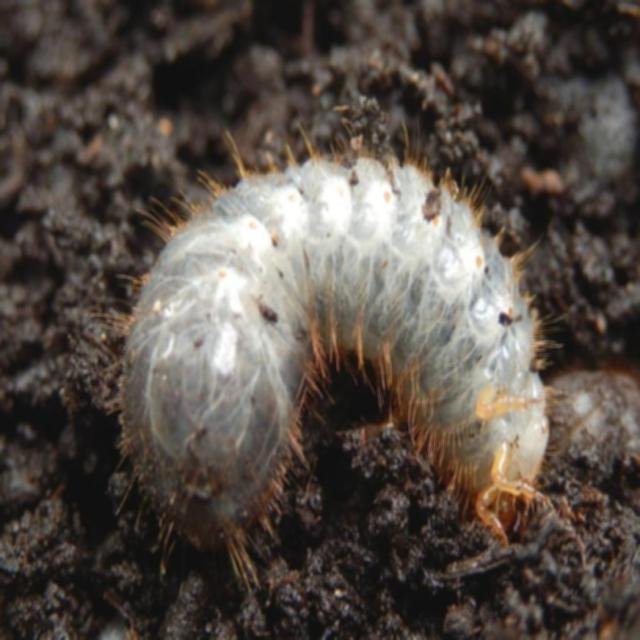grub: (121, 131, 550, 547)
